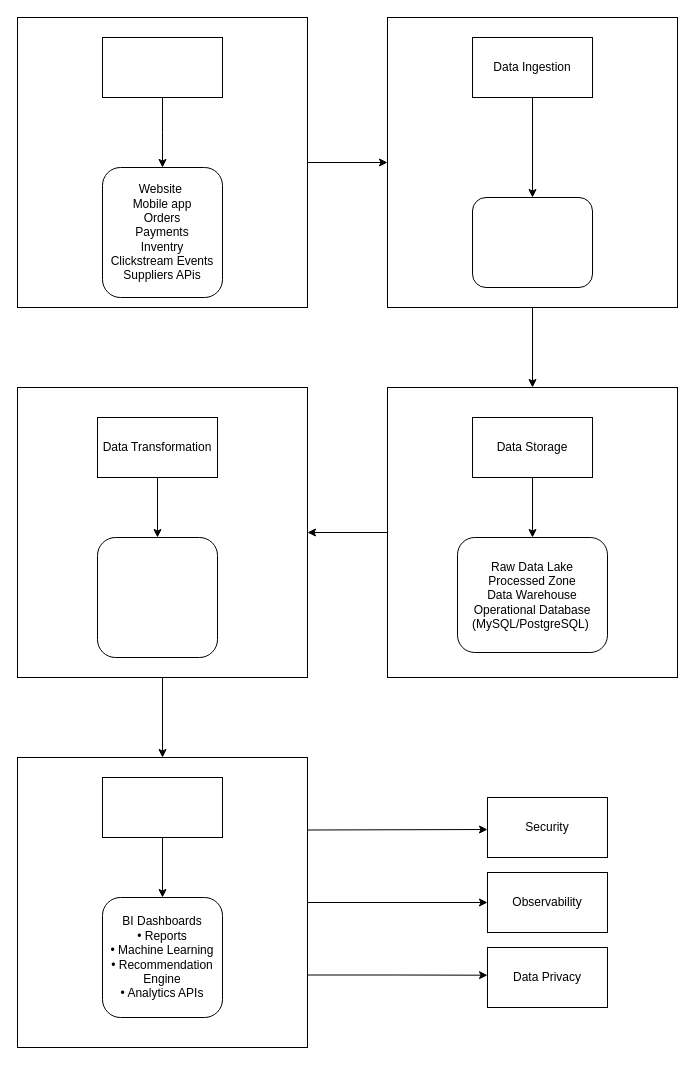
Image size: 695x1065. Some labels were removed from this diagram. Here are the shapes that lost their labels. From the top down, the centre of each, then its label:
At [162,67]: "Data Generation".
At [532,242]: "Batch ETL Streaming (Kafka) REST APIs Webhooks".
At [157,597]: "Cleaning Validation Deduplication Enrichment Aggregation Feature Engineering".
At [162,807]: "Data Serving".
